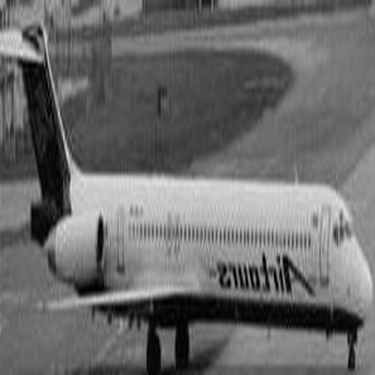airplane: (1, 5, 370, 370)
